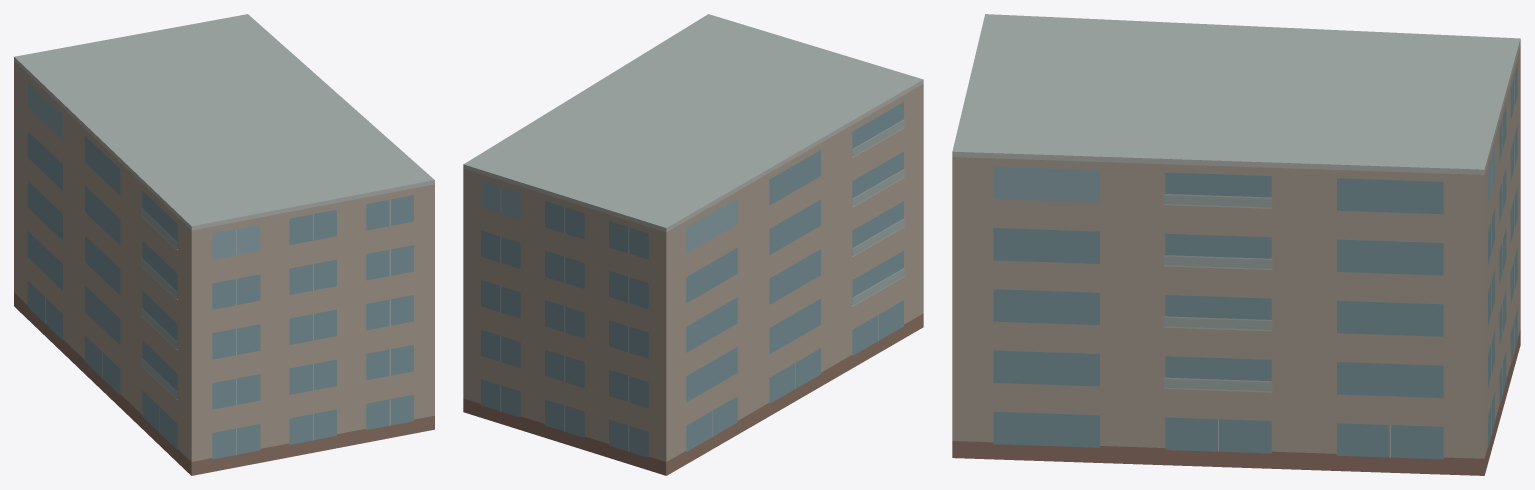
File: survey-upis-33034648.glb
3 views of the same model, side by side, from view 1: azimuth 30°, elevation 25°; view 2: azimuth 150°, elevation 25°; view 3: azimuth 270°, elevation 25° (orthographic). The views are drawn at different scales.
Visible parts, largest first — view 1: survey-upis-33034648.tmp; view 2: survey-upis-33034648.tmp; view 3: survey-upis-33034648.tmp.
Part boxes in pixels (x1,y1,x2,y2): survey-upis-33034648.tmp: (14,14,434,475); survey-upis-33034648.tmp: (463,14,923,475); survey-upis-33034648.tmp: (952,14,1520,475).
Bounding box in the file's own units: 15.38 × 14.1 × 23.72.
